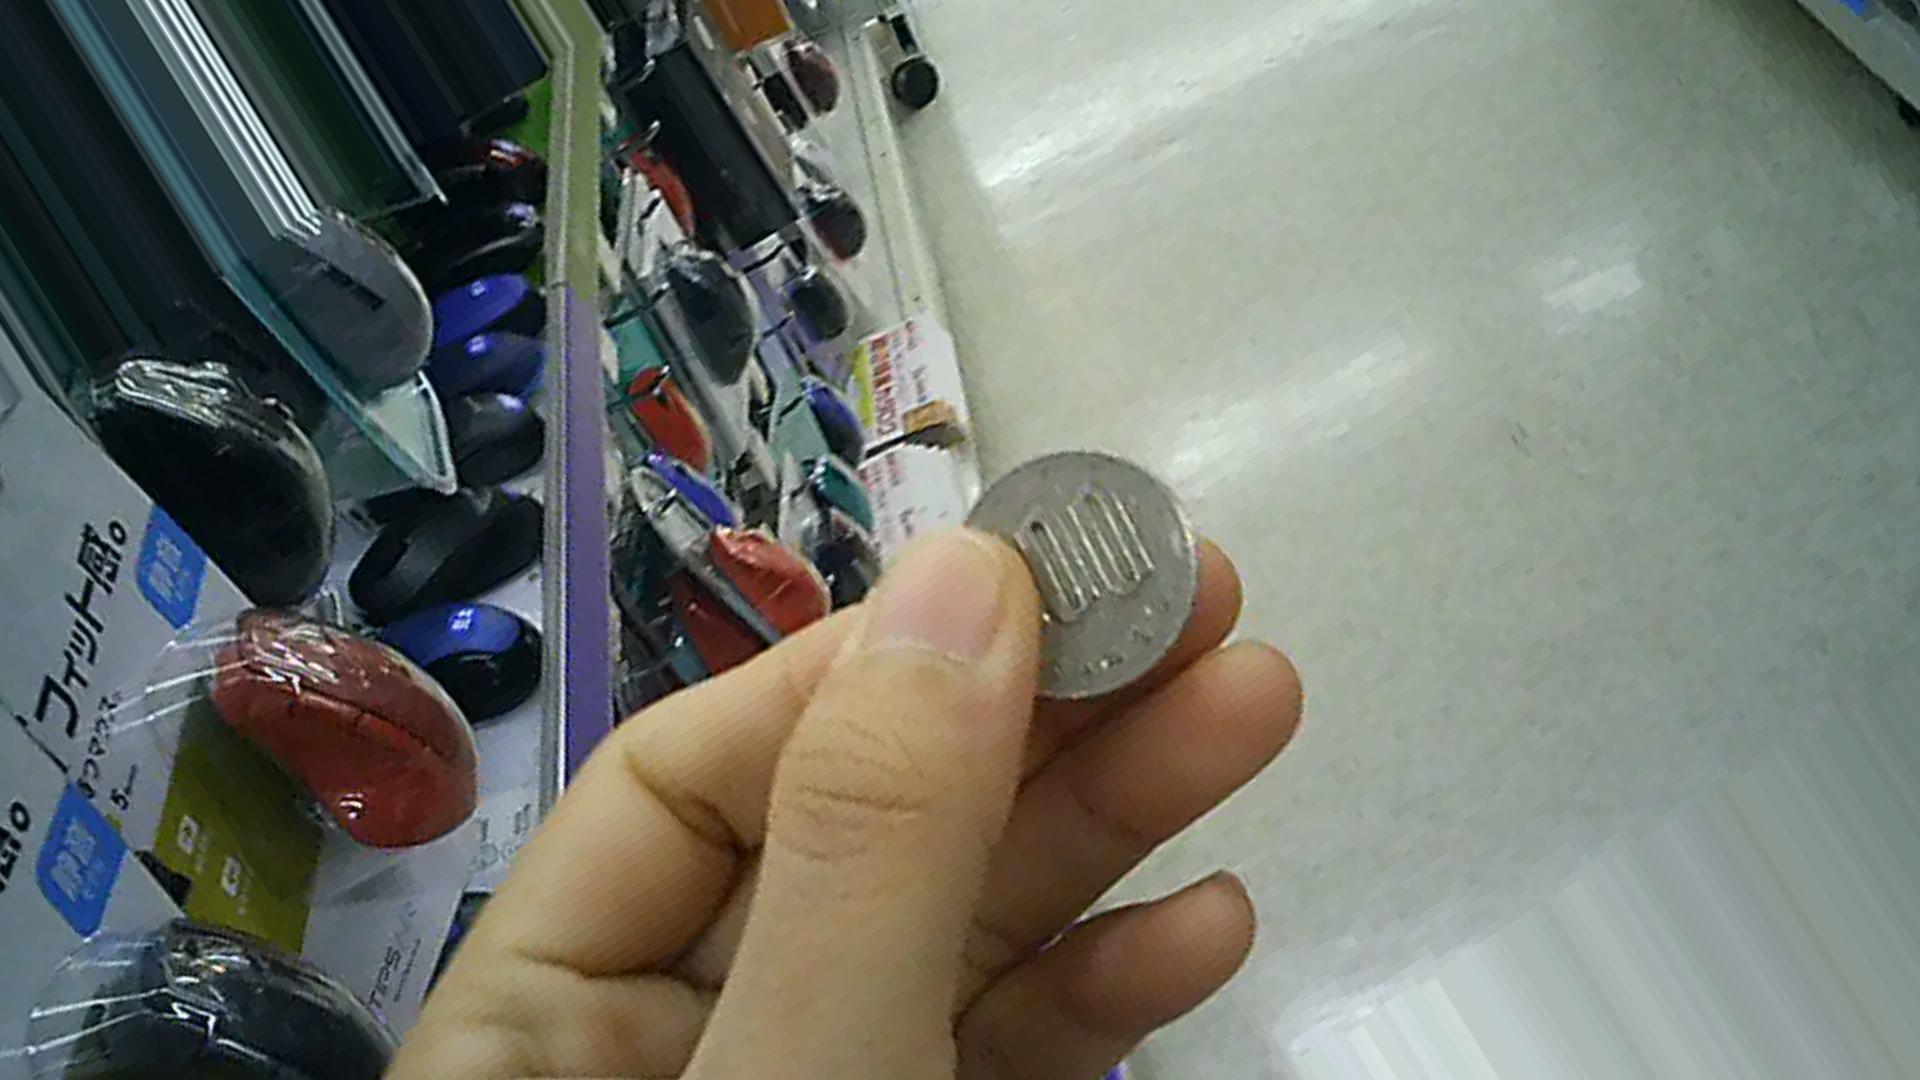100 Yen: (952, 443, 1207, 719)
